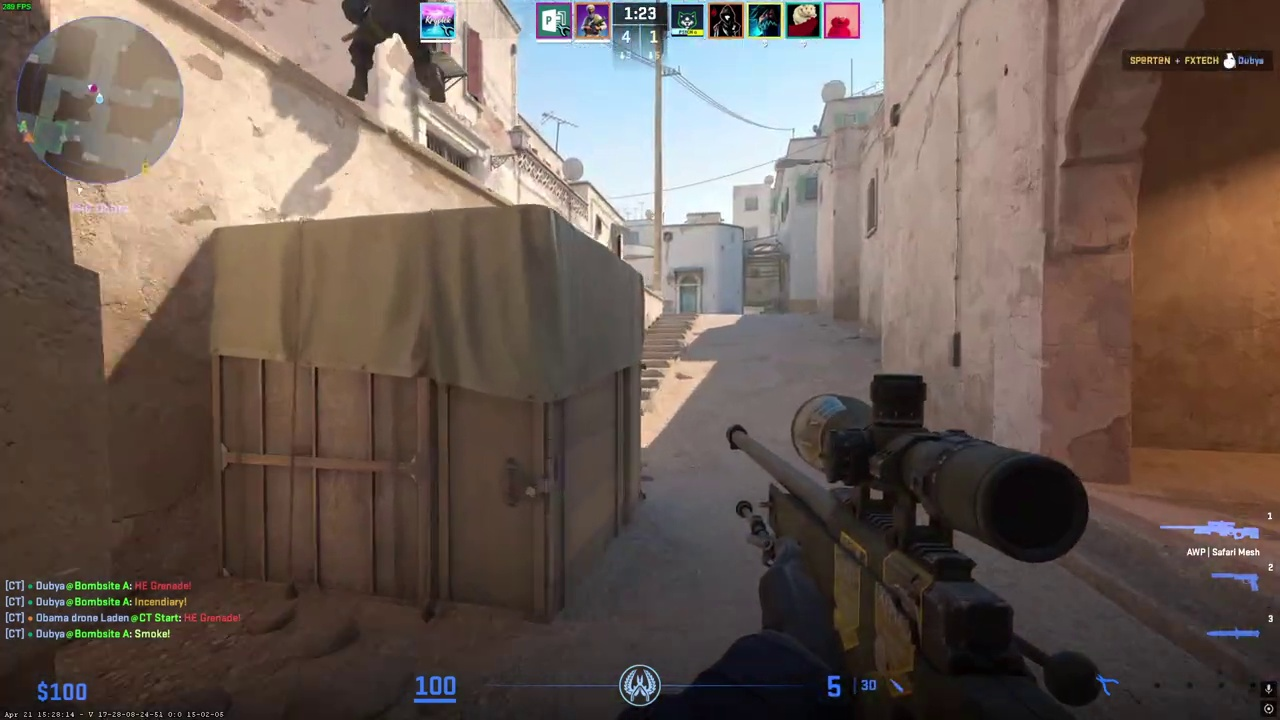CT: (337, 0, 446, 103)
